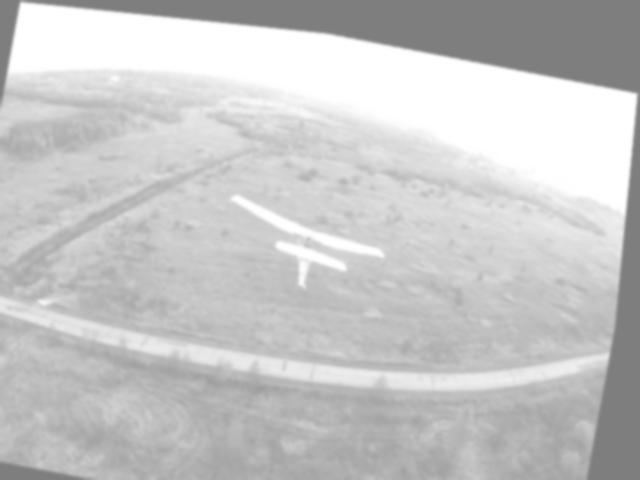hedef: (217, 183, 398, 298)
